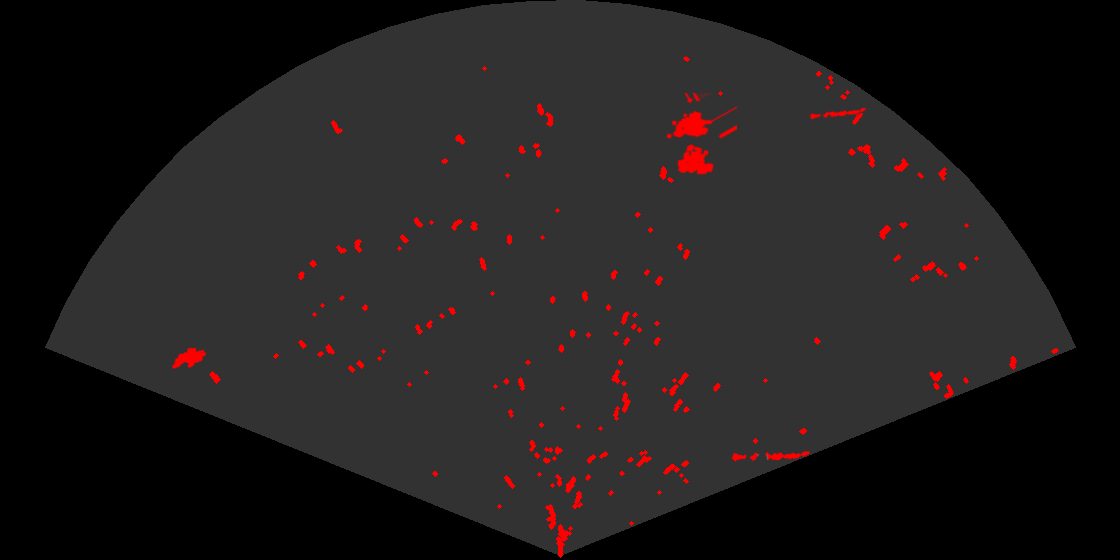AUV: (170, 346, 208, 371)
cage: (665, 93, 737, 177)
chain: (730, 450, 810, 463), (809, 106, 868, 121)
